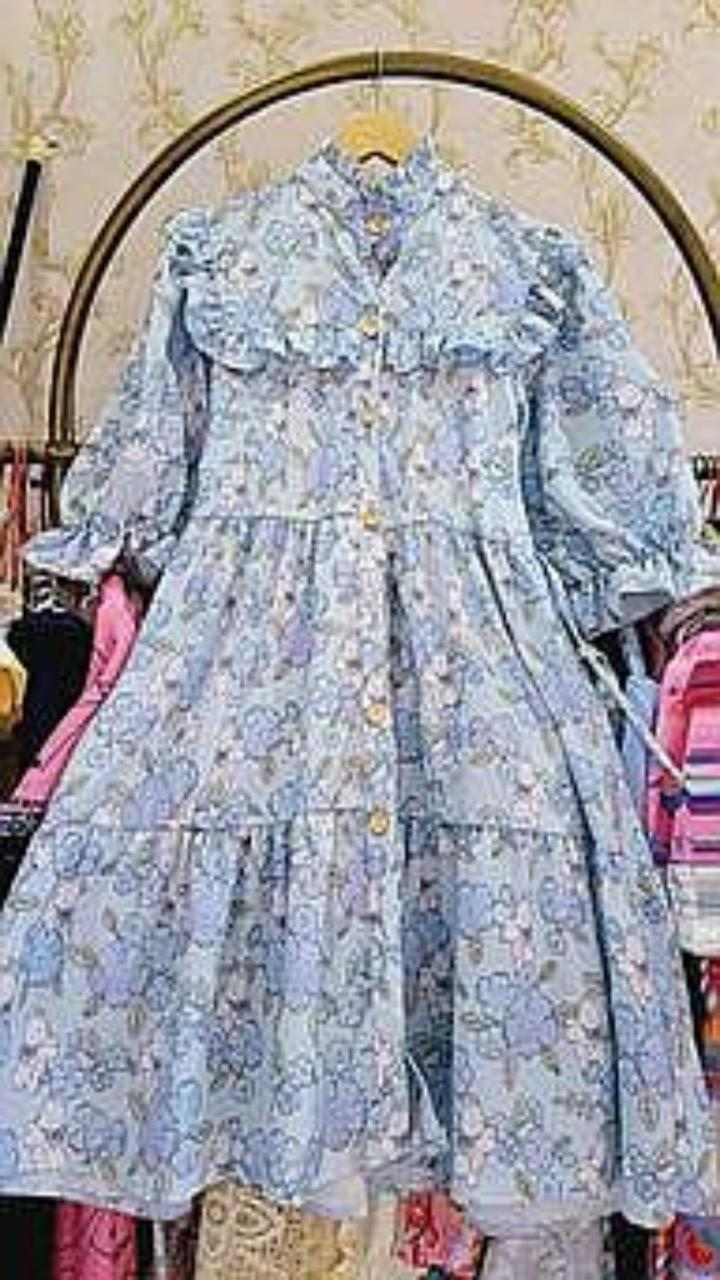Dresses: (0, 144, 710, 1233)
